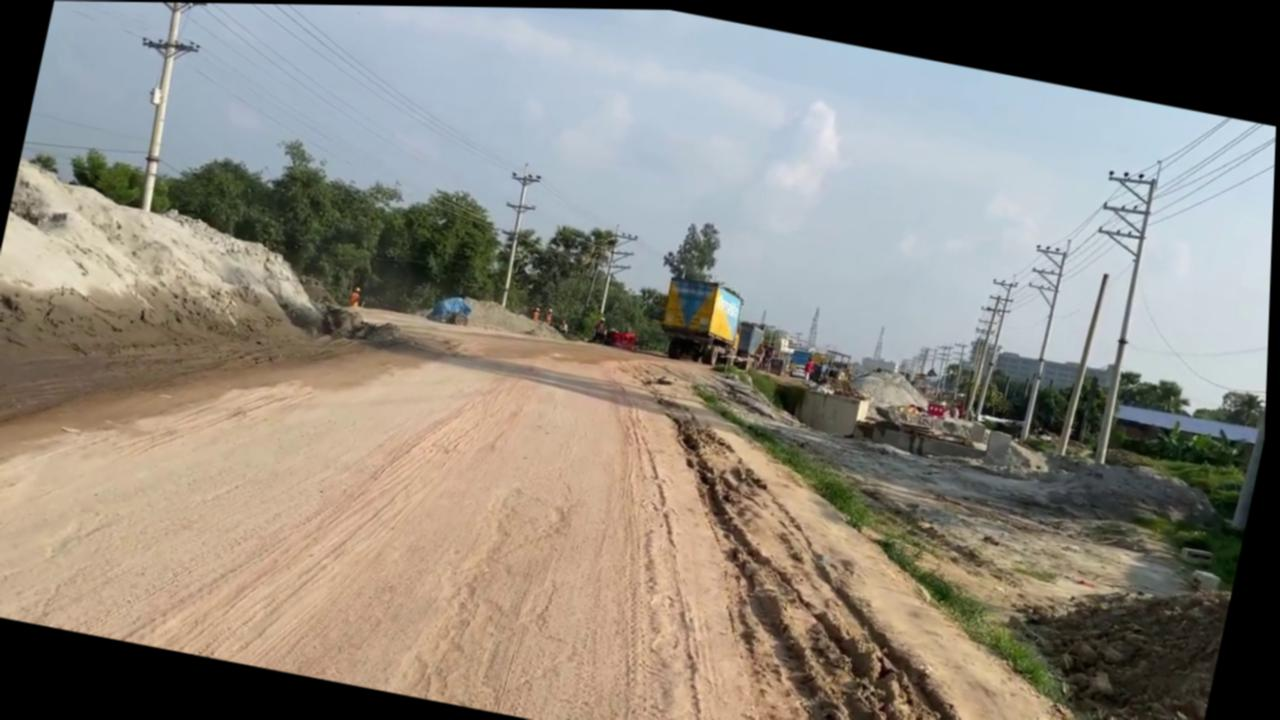Obstacle: (795, 380, 873, 436)
Pole: (100, 1, 221, 214), (1057, 266, 1111, 454)
Rickshaw: (557, 348, 1255, 720)
Traffic-sign: (660, 211, 726, 283)
Tree: (655, 268, 751, 367), (605, 321, 640, 348)
